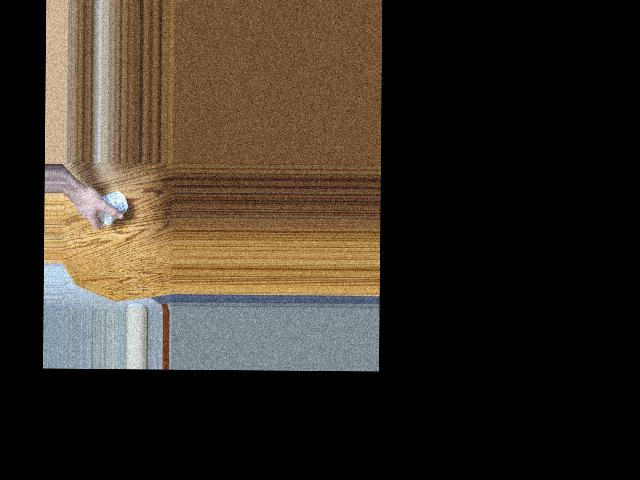cotage: (98, 193, 127, 226)
